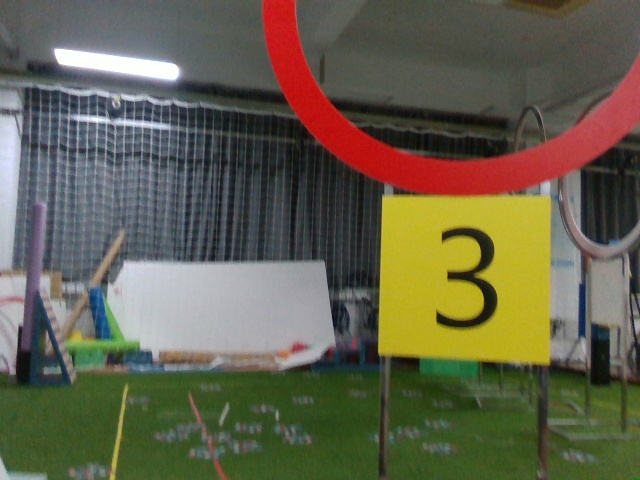target: (372, 195, 549, 357)
